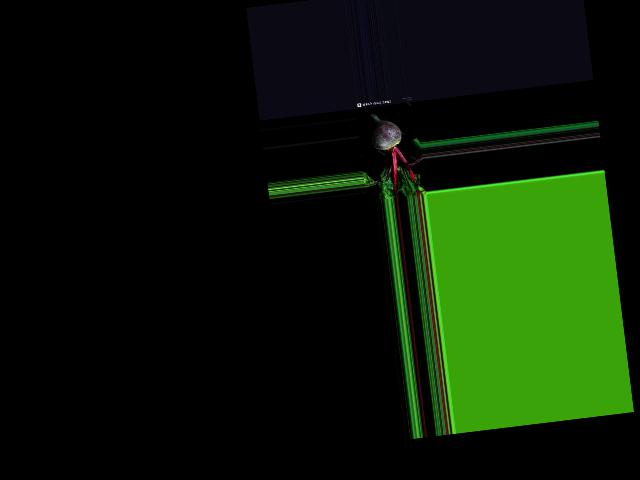beet: (356, 108, 427, 201)
